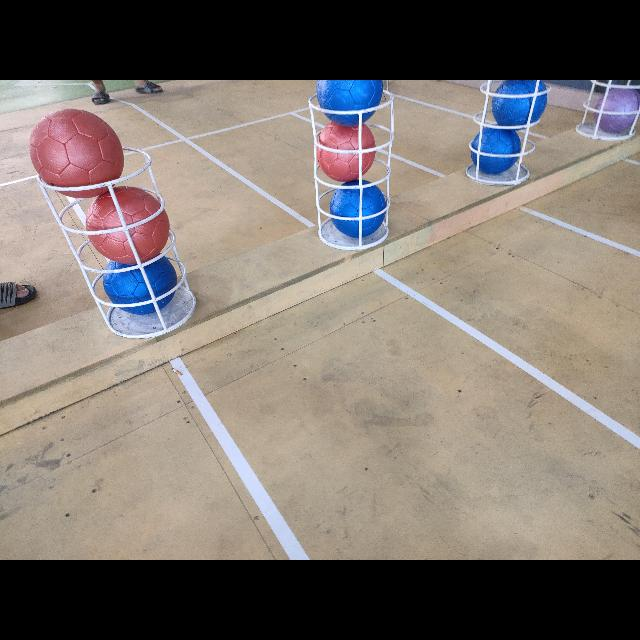B: (104, 258, 178, 314), (328, 182, 386, 236), (318, 80, 382, 124), (492, 80, 548, 126), (471, 125, 522, 173)
R: (27, 110, 123, 196), (84, 187, 170, 259), (318, 123, 376, 181)
